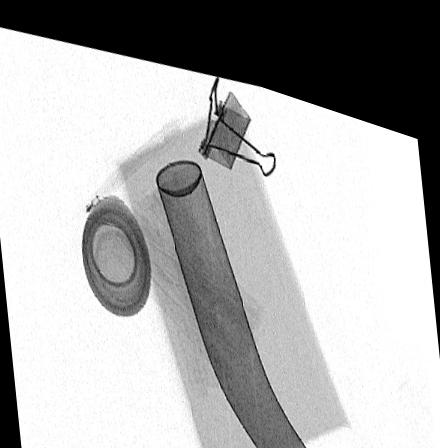Sprayer: (156, 148, 321, 448)
